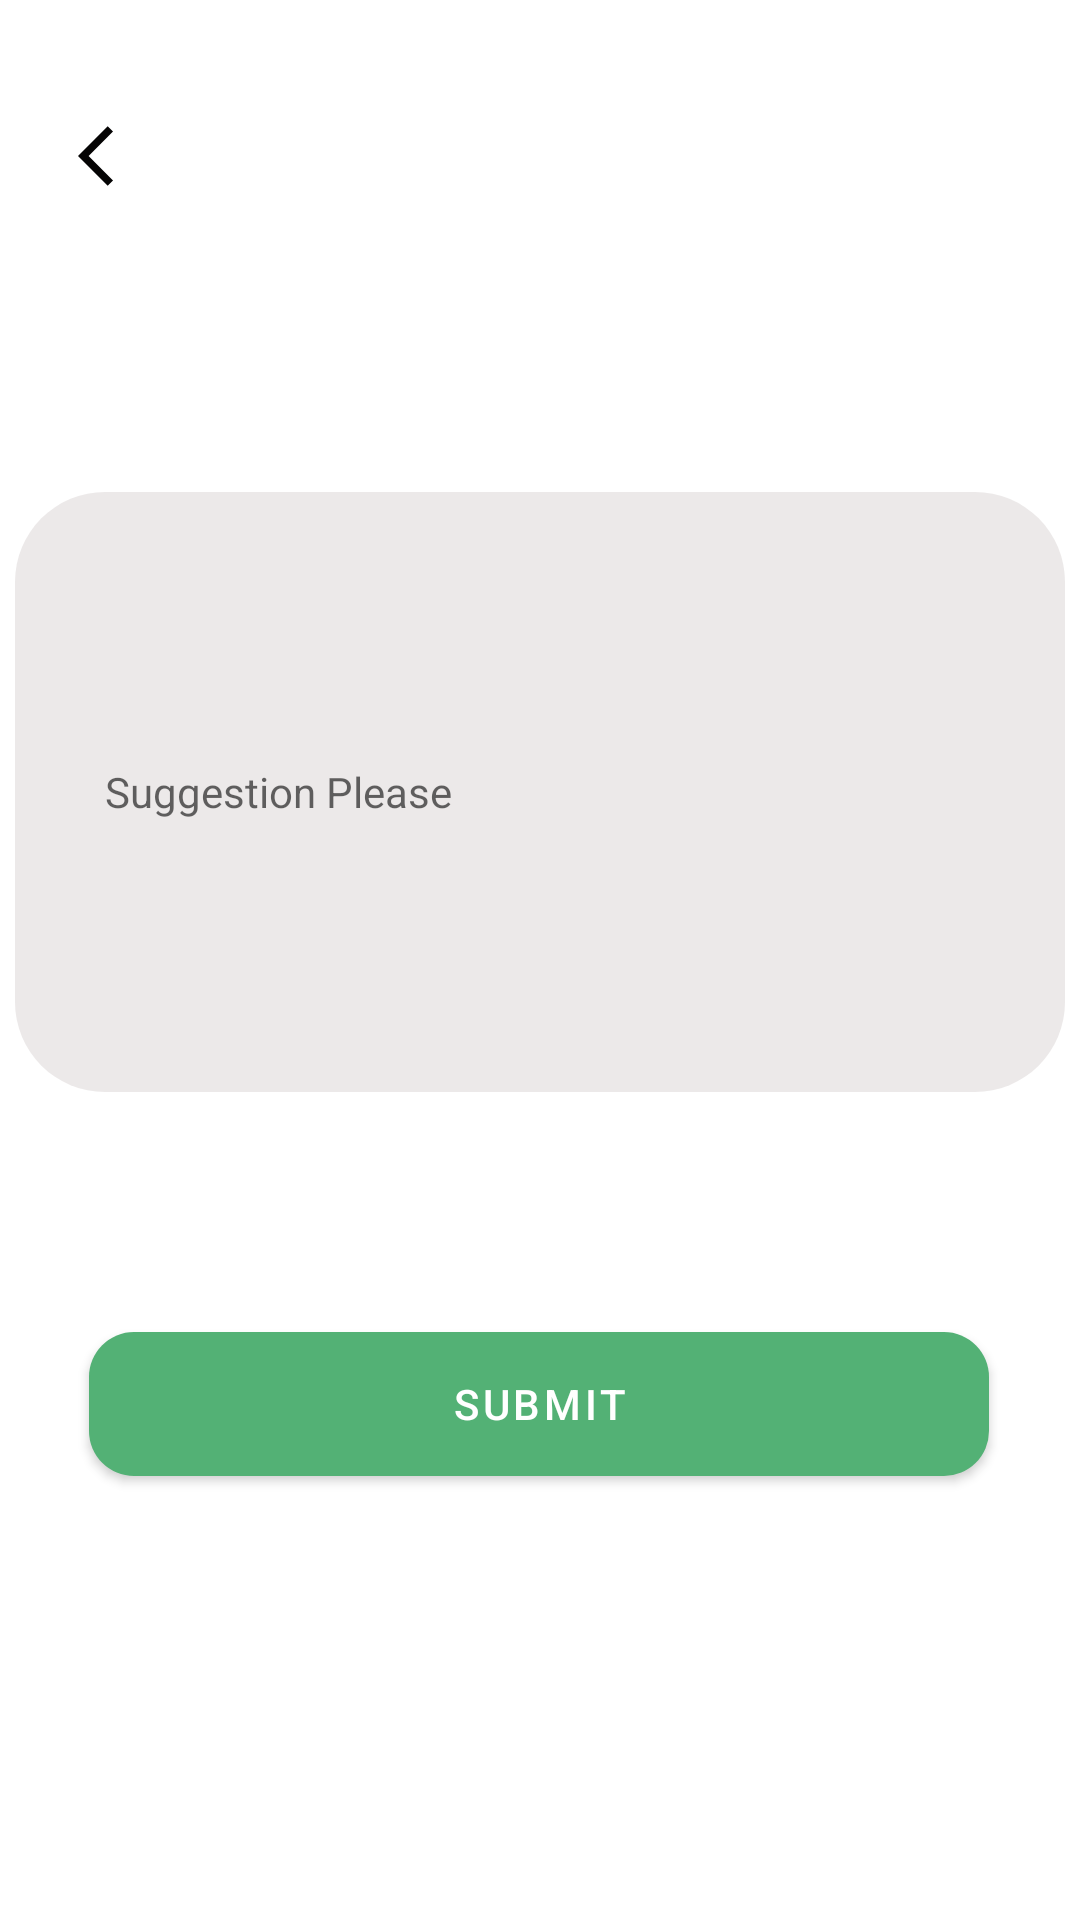

Screen size 1080 × 1920. Icon name, then its center in pixels as (x,y):
arrow back: (95,156)
